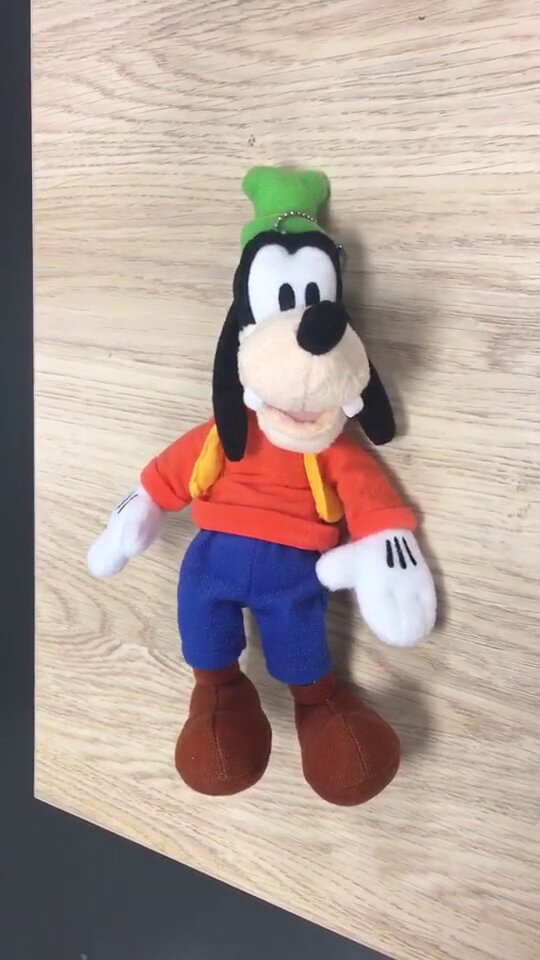goofy: (78, 164, 443, 805)
